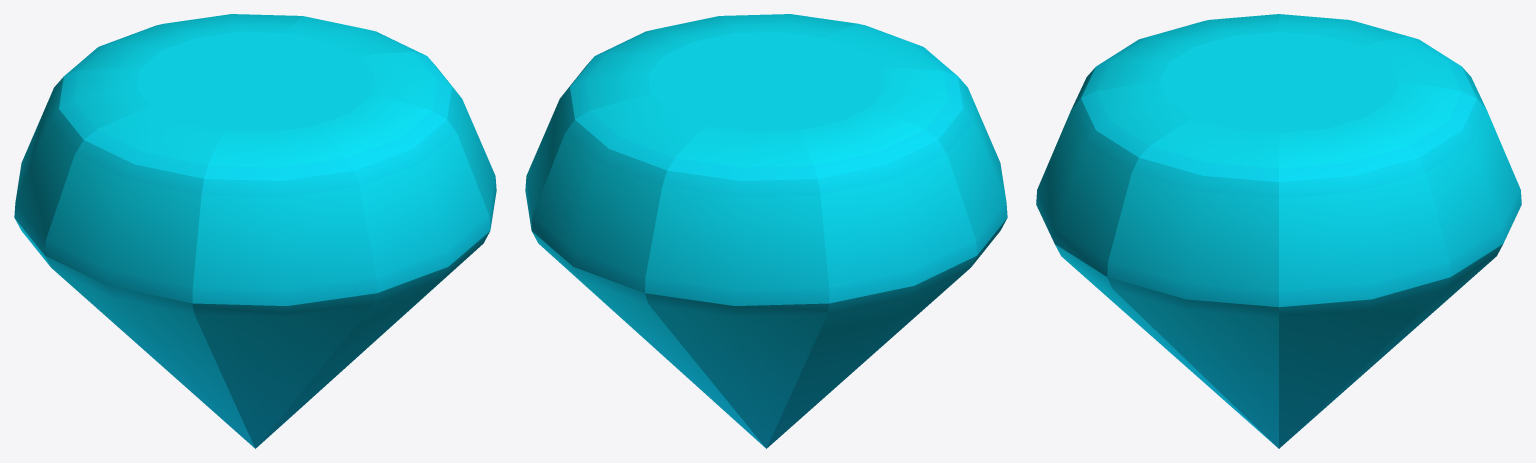
The model's file is Gem_V3_00.fbx.
3 views of the same model, side by side, from view 1: azimuth 30°, elevation 25°; view 2: azimuth 150°, elevation 25°; view 3: azimuth 270°, elevation 25° (orthographic).
Visible parts, largest first — view 1: Gem_V3_00; view 2: Gem_V3_00; view 3: Gem_V3_00.
Boxes of the visible parts, x1,y1,x2,y2 form: Gem_V3_00: (14, 14, 496, 448); Gem_V3_00: (525, 14, 1007, 448); Gem_V3_00: (1036, 14, 1521, 448).
Size of the model in its own units: 45.66 by 38.01 by 45.66.
